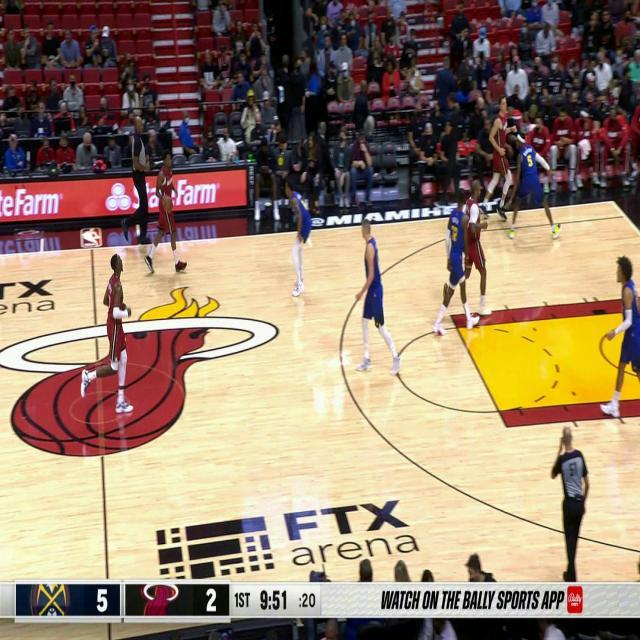rim: (162, 196, 172, 213)
